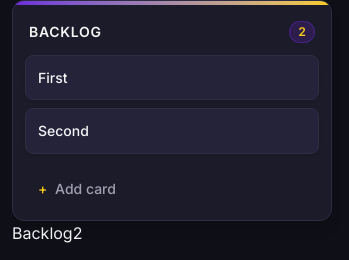
Test: Column › renames the column when the title is edited and Enter is pressed
Click the button with aria-label "rename: column: backlog" at (155, 32), box [29, 22, 281, 42]
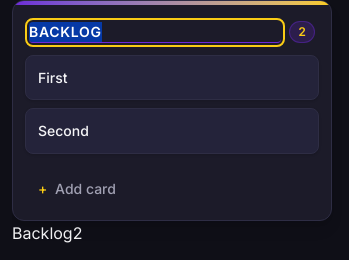
Replace the text in the field named "Column: Backlog" with "Planning" at (155, 32), box [29, 22, 281, 42]
Then press Enter
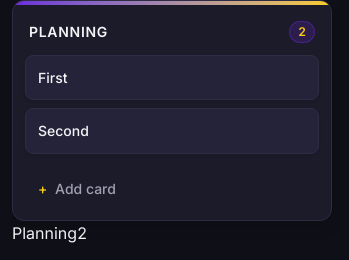
Result: the text with test id "title" reads "Planning" at [12, 222, 77, 242]
